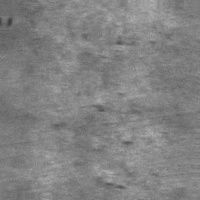rolled-in_scale: (76, 127, 149, 194)
